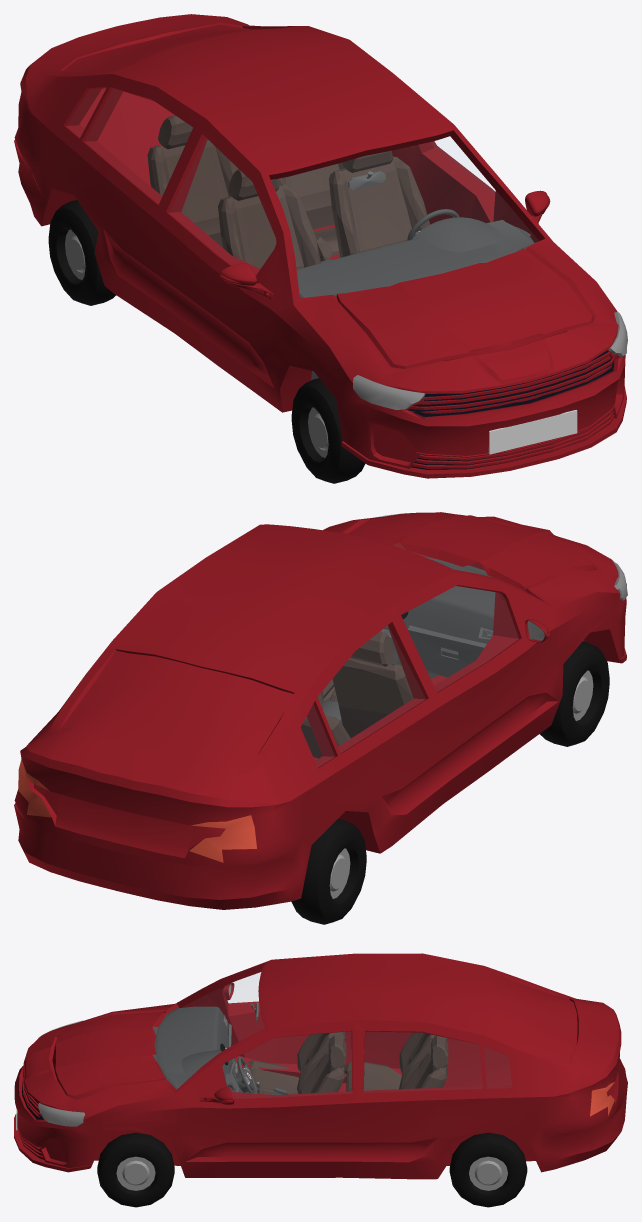
The model's file is Final Car v1.1.fbx.
3 views of the same model, one above another, from view 1: azimuth 30°, elevation 25°; view 2: azimuth 150°, elevation 25°; view 3: azimuth 270°, elevation 25° (orthographic). The views are drawn at different scales.
Parts seen in each view (by area): view 1: Main Car, seat, VehicleModel, F R wheel.003, B L wheel.006, plaka.001, sideMirror.001; view 2: Main Car, seat, B L wheel.006, F R wheel.003, VehicleModel, torpedo_cover; view 3: Main Car, seat, VehicleModel, B L wheel.005, F L wheel.004, steeringWheel, sideMirror.
Part boxes in pixels (x1,y1,x2,y2): Main Car: (14, 14, 627, 478); seat: (147, 115, 429, 269); VehicleModel: (296, 217, 536, 380); F R wheel.003: (291, 378, 365, 483); B L wheel.006: (48, 200, 116, 305); plaka.001: (488, 410, 577, 454); sideMirror.001: (220, 263, 273, 299); Main Car: (14, 512, 627, 909); seat: (300, 631, 413, 758); B L wheel.006: (291, 819, 366, 924); F R wheel.003: (540, 641, 609, 746); VehicleModel: (322, 557, 495, 724); torpedo_cover: (408, 625, 486, 676); Main Car: (14, 953, 627, 1179); seat: (247, 1031, 448, 1093); VehicleModel: (152, 1006, 298, 1095); B L wheel.005: (449, 1132, 527, 1207); F L wheel.004: (97, 1132, 174, 1207); steeringWheel: (236, 1056, 257, 1093); sideMirror: (199, 1086, 234, 1104).
Size of the model in its own units: 221 by 494 by 159.
